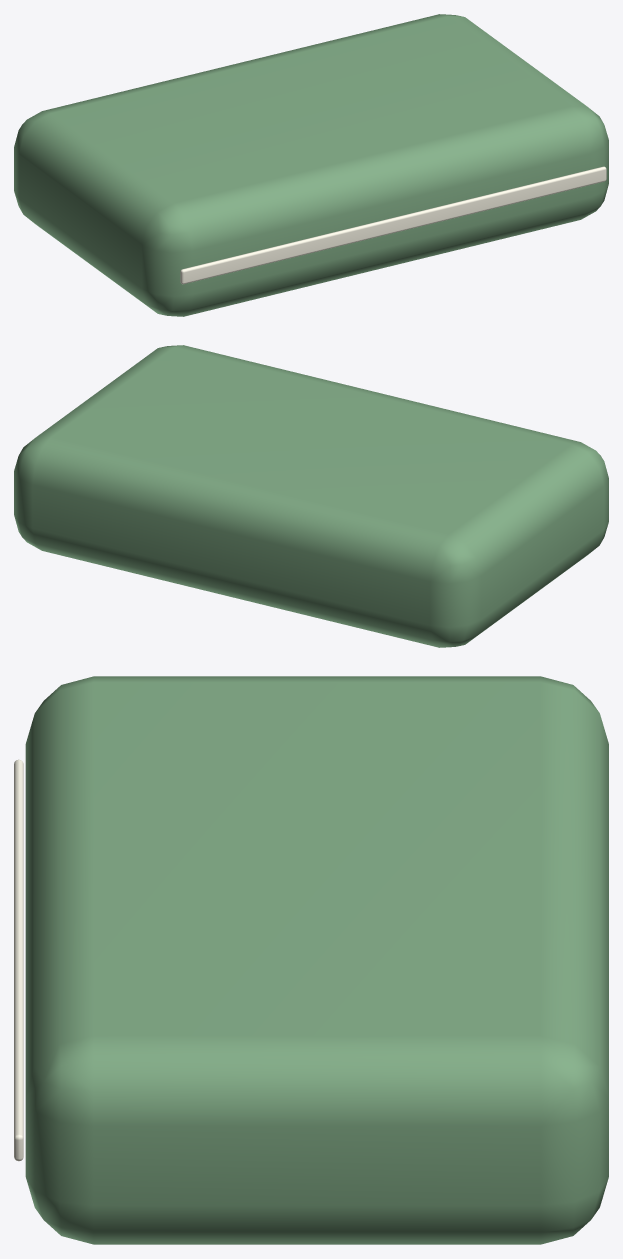
The model's file is bathroomTowelGreen.glb.
3 renders of one model, top to bottom at view 1: azimuth 30°, elevation 25°; view 2: azimuth 150°, elevation 25°; view 3: azimuth 270°, elevation 25°, orthographic. The views are drawn at different scales.
Parts seen in each view (by area): view 1: Folded towel, Towel fold; view 2: Folded towel; view 3: Folded towel, Towel fold.
Boxes of the visible parts, bbox=[...] form: Folded towel: bbox=[14, 14, 608, 316]; Towel fold: bbox=[180, 166, 606, 284]; Folded towel: bbox=[14, 345, 608, 647]; Folded towel: bbox=[25, 676, 608, 1244]; Towel fold: bbox=[14, 759, 23, 1161].
Size of the model in its own units: 1 by 0.23 by 0.612.
